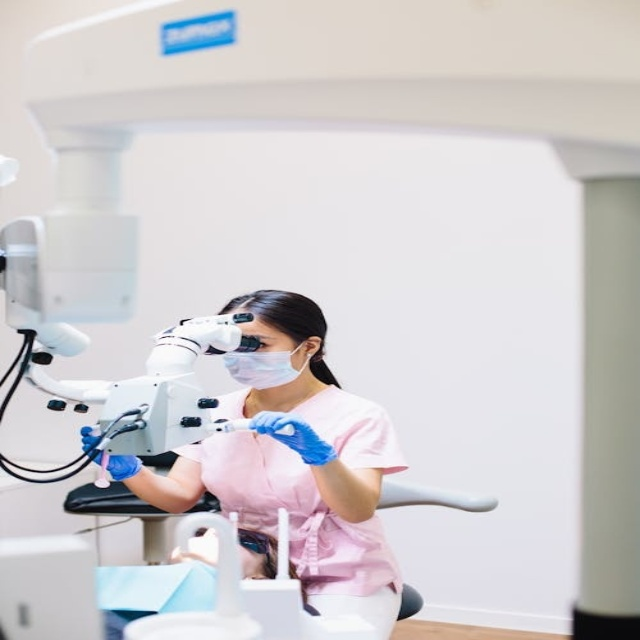Guantes: (250, 410, 337, 465), (83, 430, 143, 481)
Mascara: (222, 339, 310, 389)
